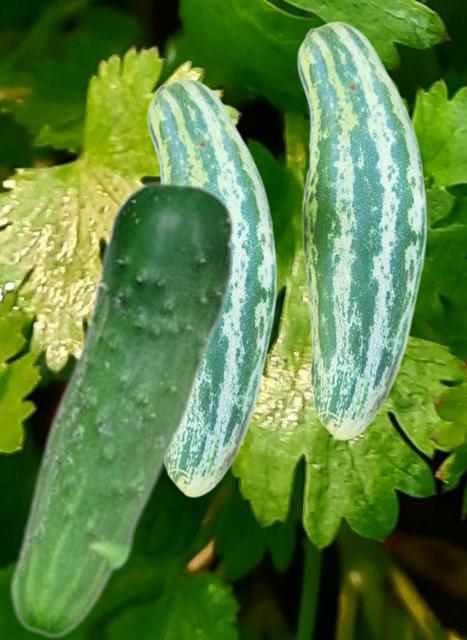cucumber: (7, 180, 236, 638), (296, 20, 426, 440), (146, 77, 276, 497)
